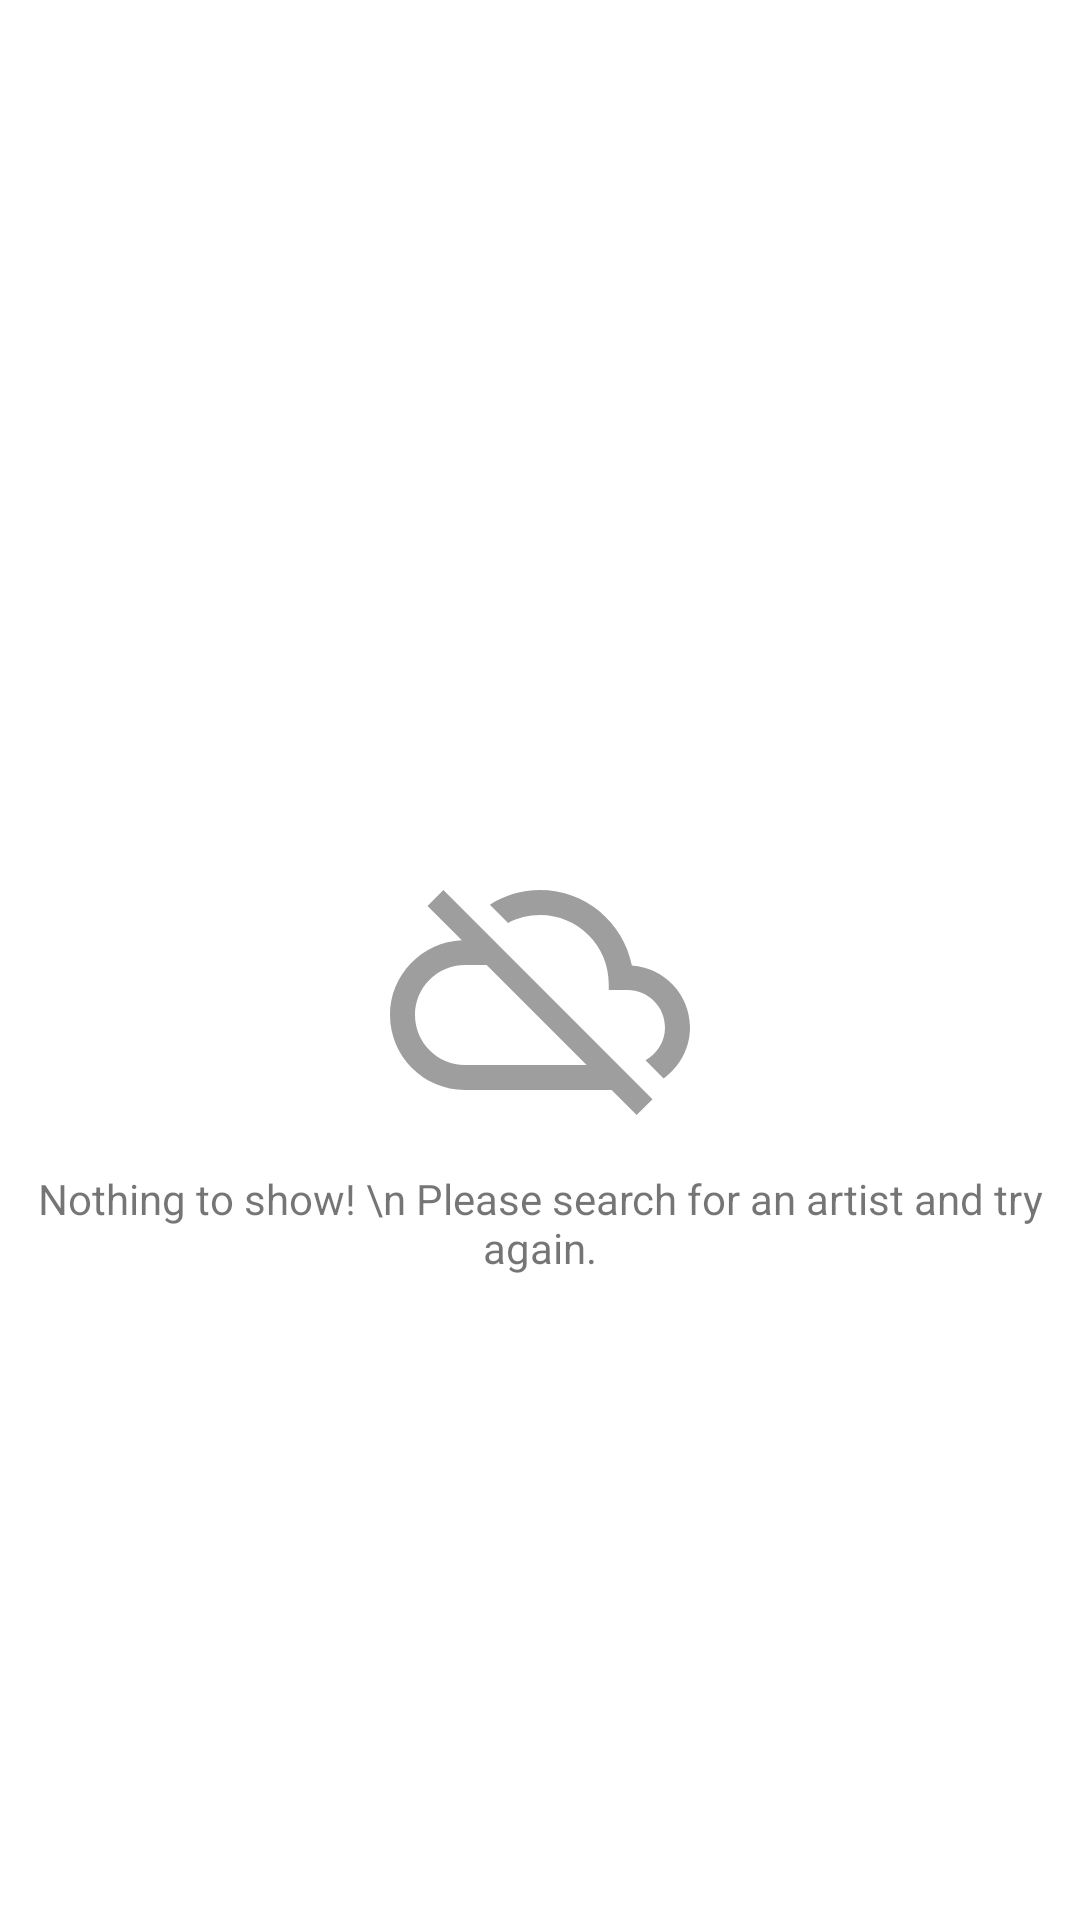

Screen size 1080 x 1920. Icon name, then its center in pixels as point (x, y):
cloud off: point (540, 1002)
